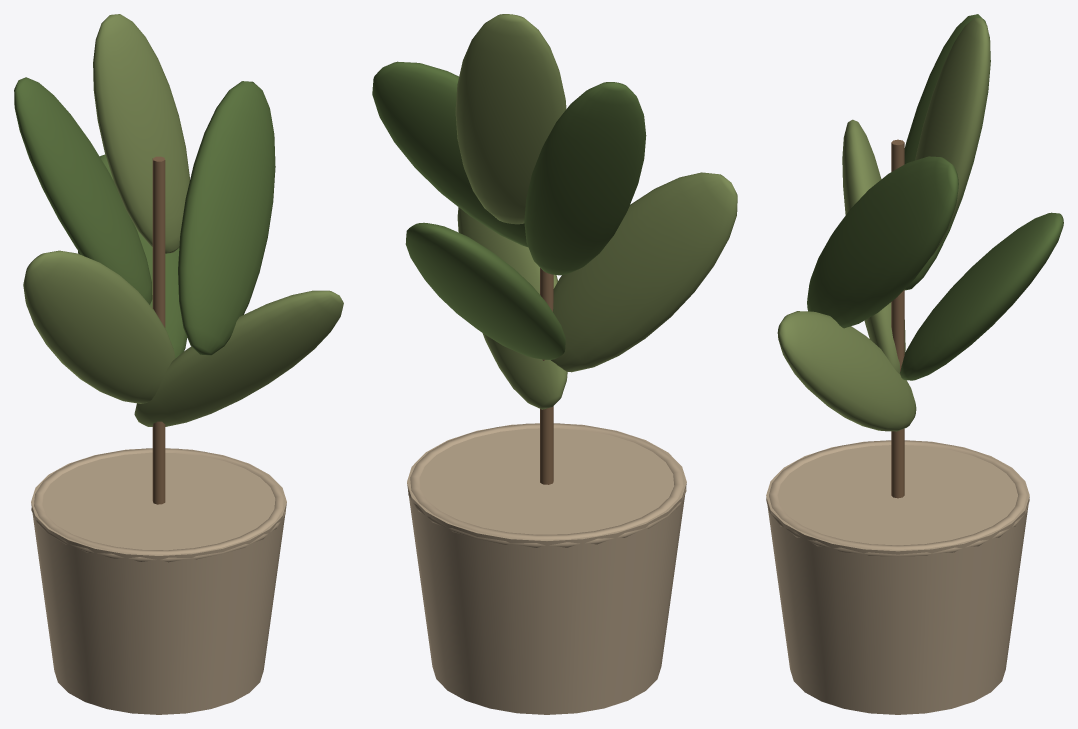
Rendered from plant.glb.
The picture shows the model from 3 angles, left to right: view 1: azimuth 30°, elevation 25°; view 2: azimuth 150°, elevation 25°; view 3: azimuth 270°, elevation 25°; orthographic projection. The views are drawn at different scales.
Visible parts, largest first — view 1: studio/sand (×2), studio/leafLight, studio/leaf, studio/oakDark; view 2: studio/sand (×2), studio/leafLight, studio/leaf, studio/oakDark; view 3: studio/sand (×2), studio/leaf, studio/leafLight, studio/oakDark.
Boxes of the visible parts, bbox=[...] form: studio/sand (×2): bbox=[31, 448, 286, 714]; studio/leafLight: bbox=[23, 14, 343, 426]; studio/leaf: bbox=[14, 77, 275, 358]; studio/oakDark: bbox=[152, 156, 165, 504]; studio/sand (×2): bbox=[407, 423, 686, 714]; studio/leafLight: bbox=[455, 14, 737, 409]; studio/leaf: bbox=[372, 61, 646, 359]; studio/oakDark: bbox=[540, 268, 553, 484]; studio/sand (×2): bbox=[766, 440, 1029, 714]; studio/leaf: bbox=[807, 14, 1063, 380]; studio/leafLight: bbox=[777, 17, 990, 431]; studio/oakDark: bbox=[891, 139, 904, 498].
Size of the model in its own units: 0.5728 by 1.19 by 0.4968.
